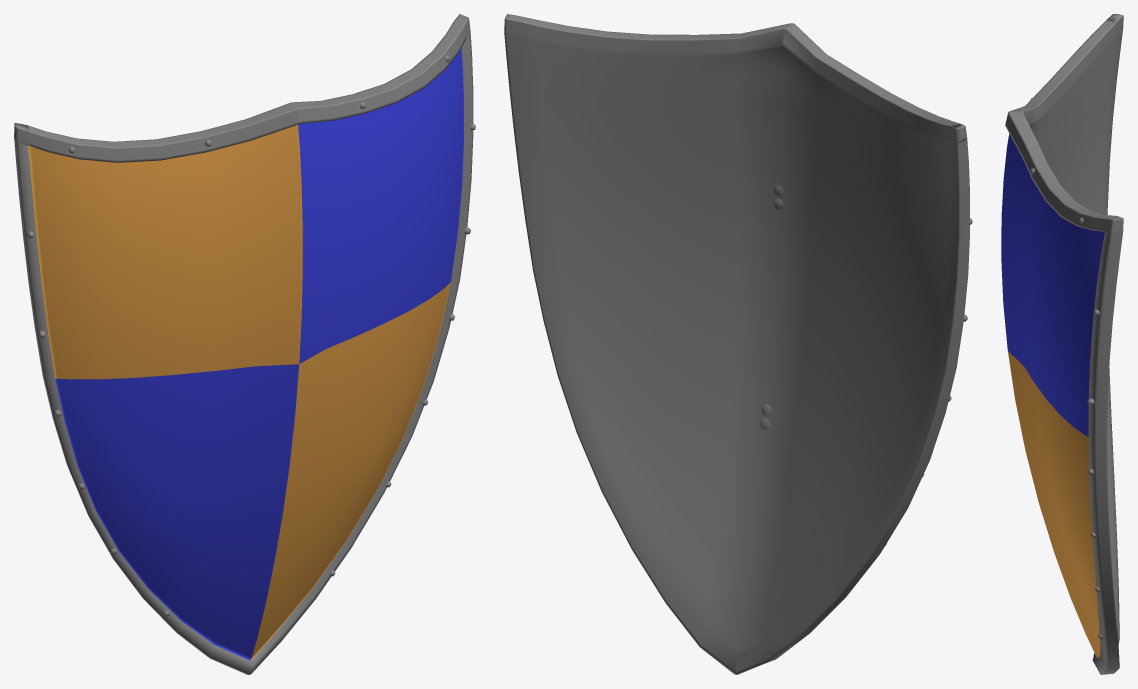
Rendered from Shield.fbx.
3 renders of one model, left to right at view 1: azimuth 30°, elevation 25°; view 2: azimuth 150°, elevation 25°; view 3: azimuth 270°, elevation 25°, orthographic. The views are drawn at different scales.
Parts seen in each view (by area): view 1: Shield; view 2: Shield; view 3: Shield.
Boxes of the visible parts, <box> form: Shield: <box>14,14,475,674</box>; Shield: <box>504,14,972,674</box>; Shield: <box>1001,14,1123,674</box>.
Size of the model in its own units: 75.83 by 96.19 by 18.97.
